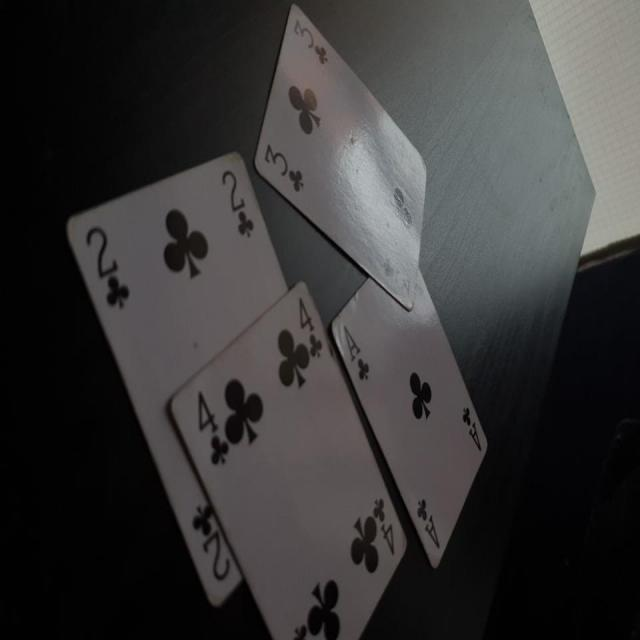2 Trefoils: (69, 153, 288, 604)
3 Trefoils: (254, 5, 427, 308)
4 Trefoils: (166, 278, 409, 640)
A Trefoils: (329, 268, 488, 570)
